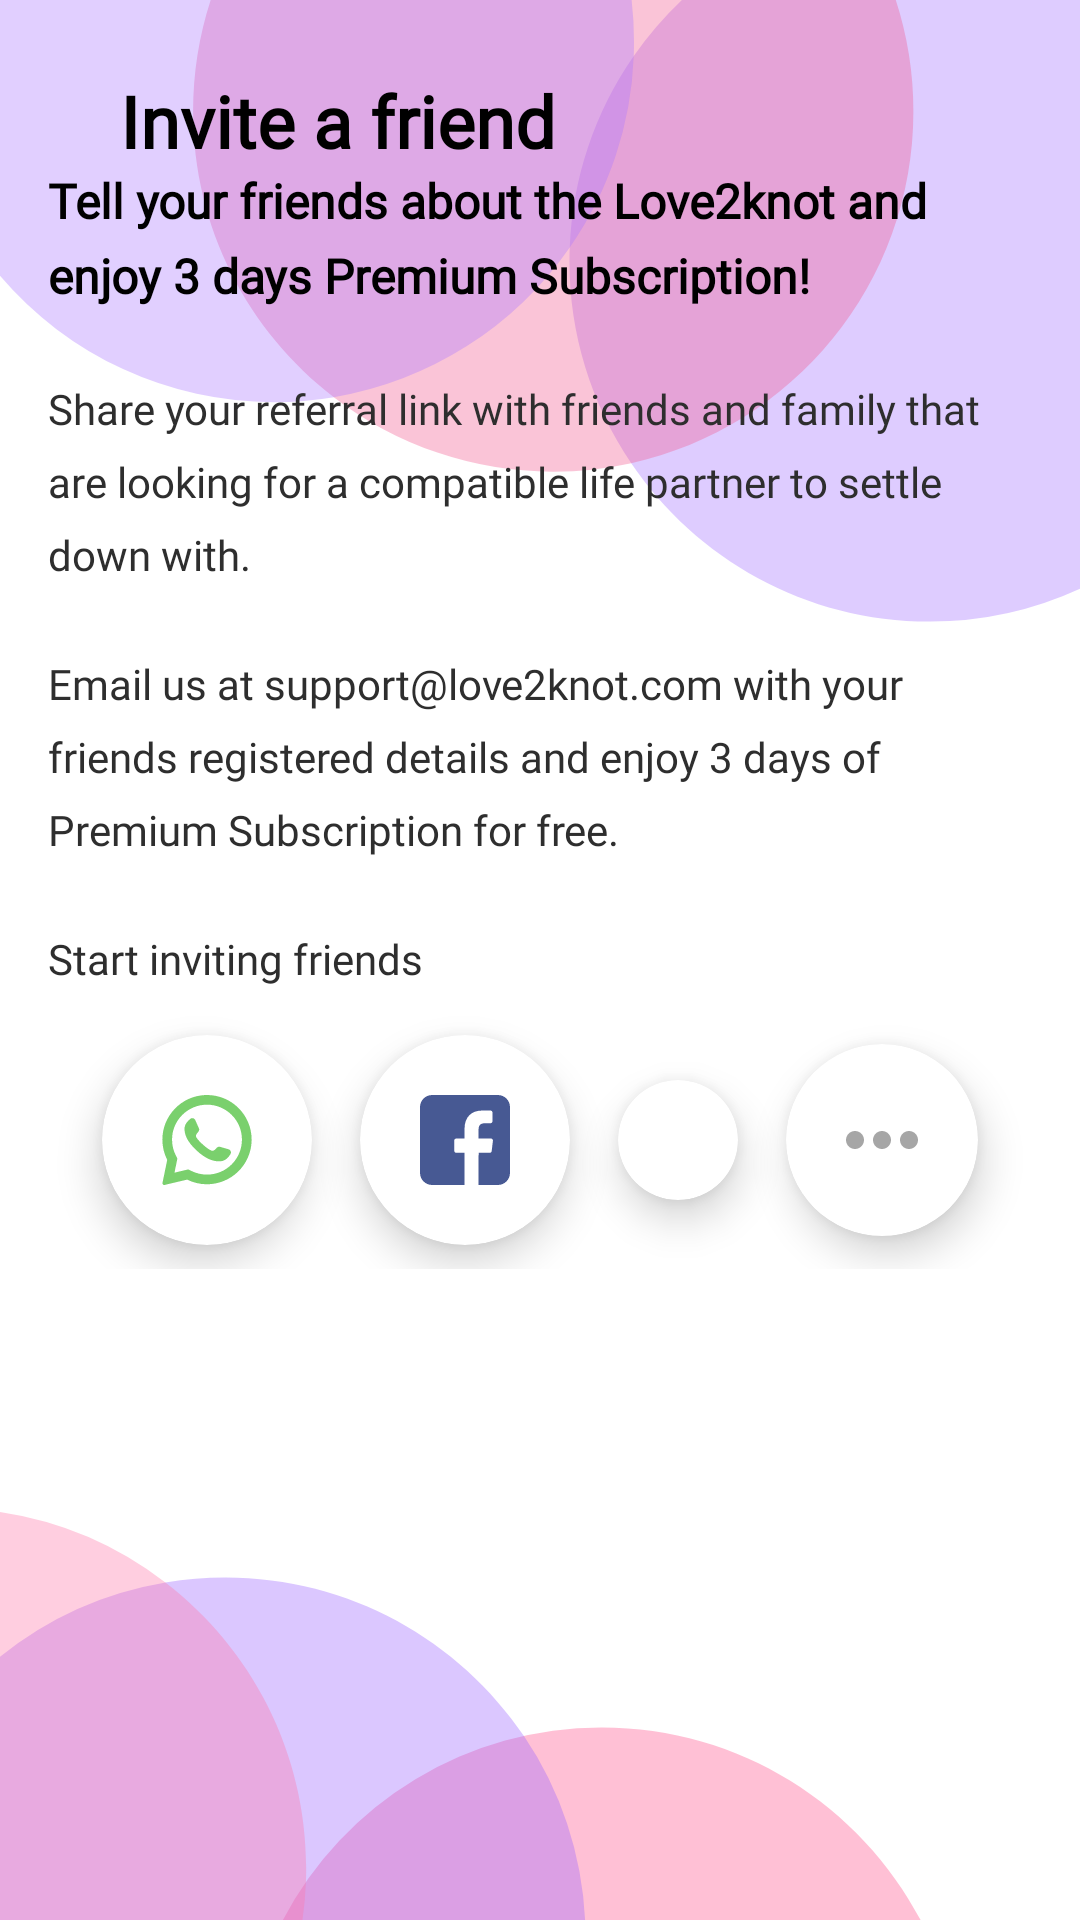

Icon bounding boxes for this 1080px×1920px phone screenshot, format [x1,y1,x2,y2]:
menu: [846,1131,918,1149]
